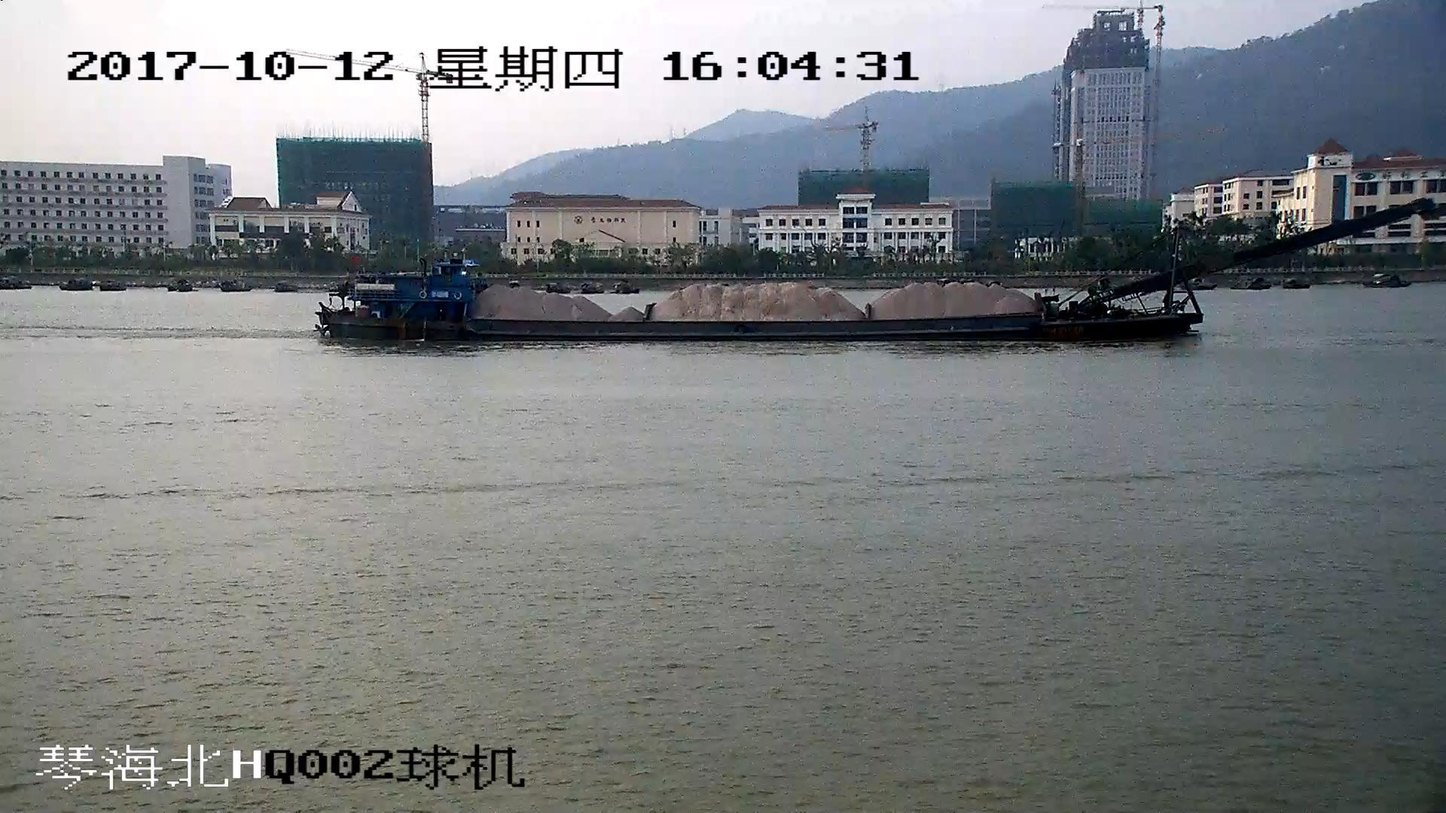ore carrier: (316, 198, 1423, 344)
